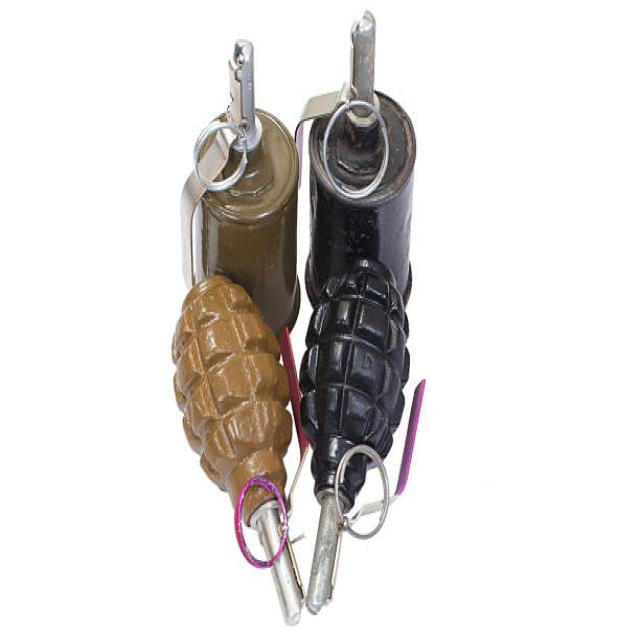grenade: (166, 280, 304, 635), (297, 255, 430, 617)
